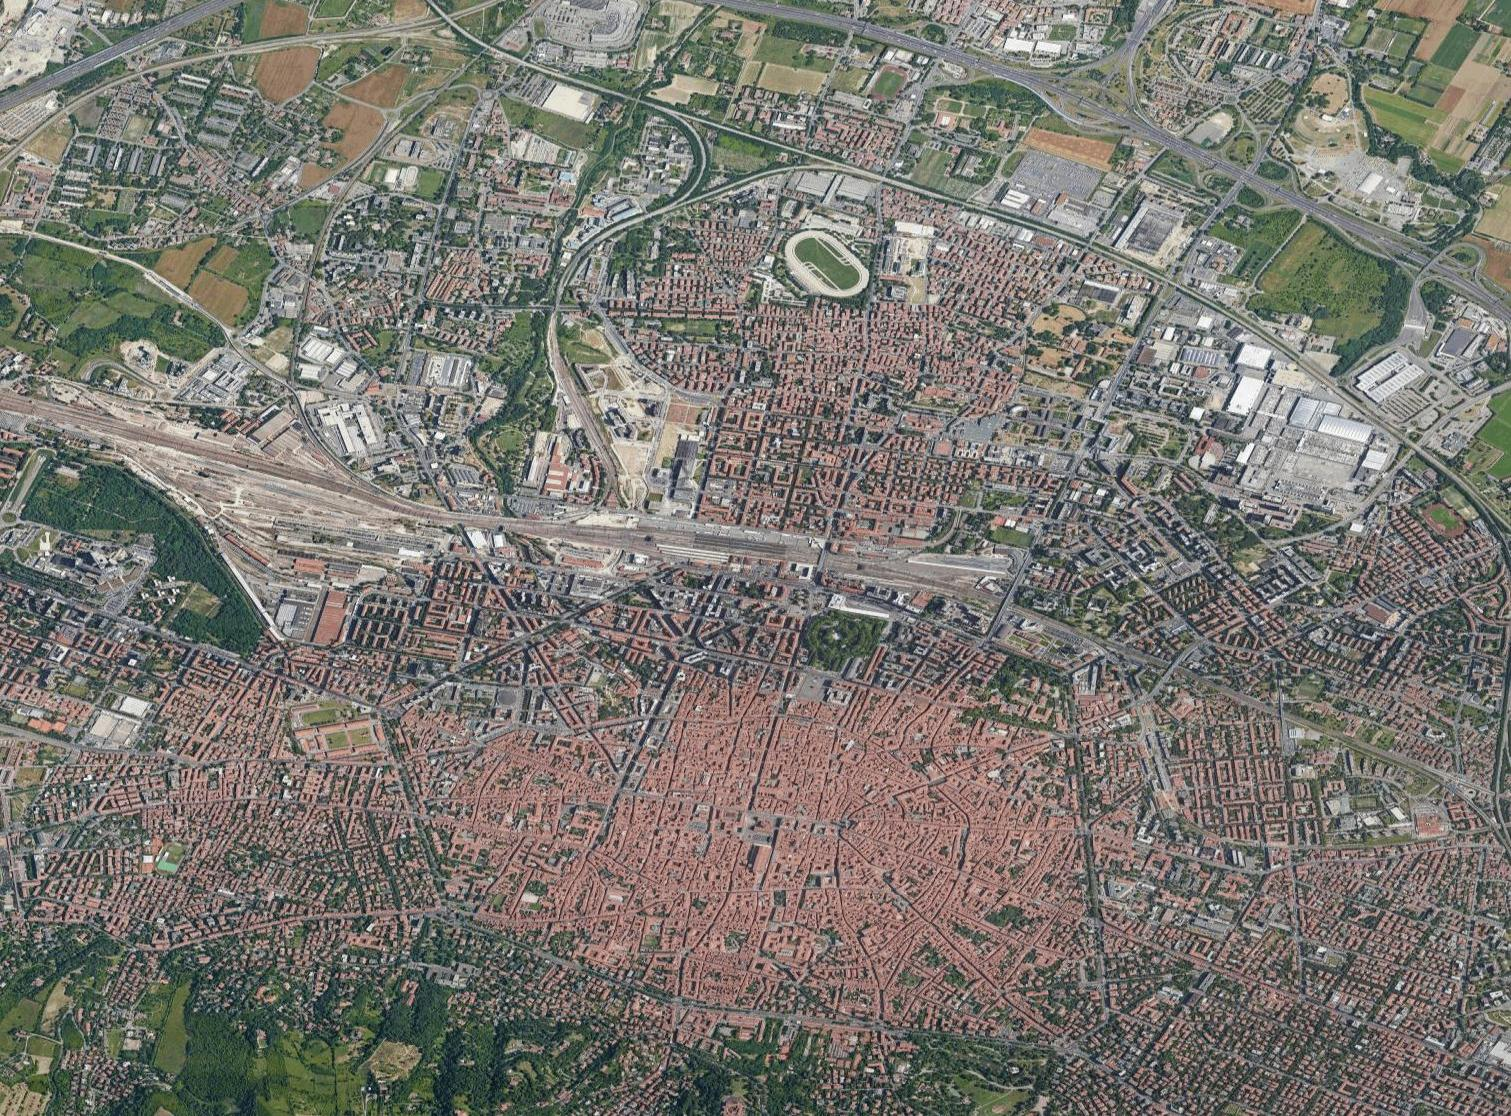motorway: (1263, 180, 1511, 316), (1012, 65, 1263, 191), (1, 1, 242, 116), (704, 1, 1012, 81)
train_station: (665, 518, 797, 571)
